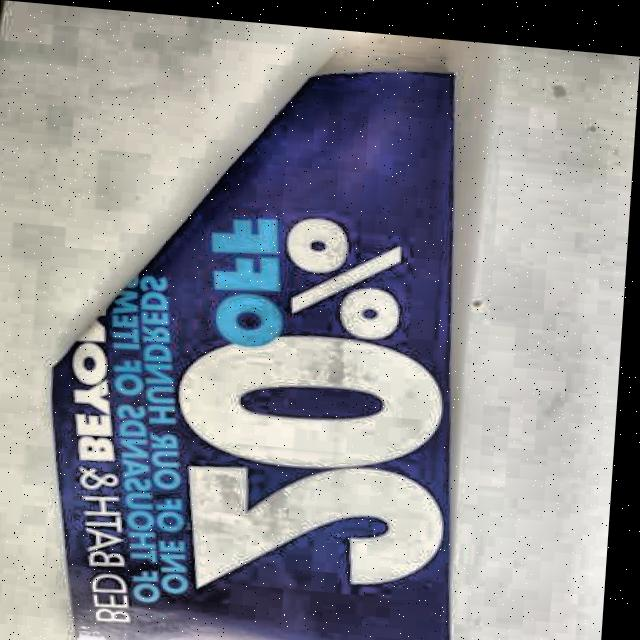paper: (33, 38, 489, 640)
